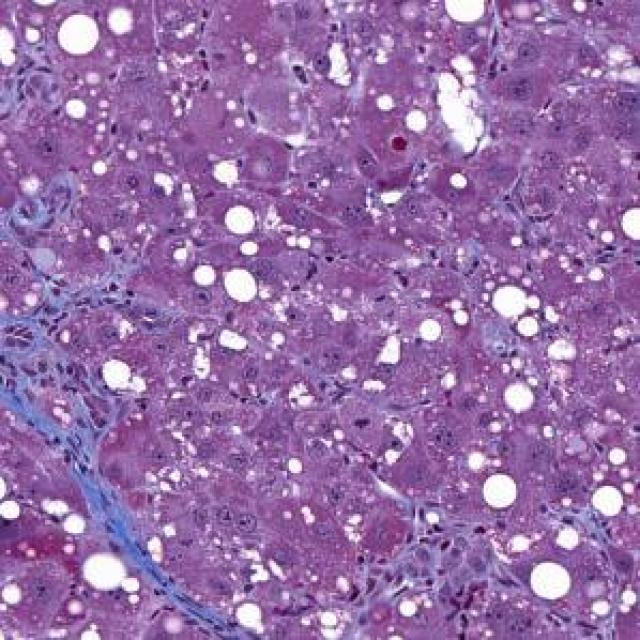fibrosis: (10, 325, 116, 503)
